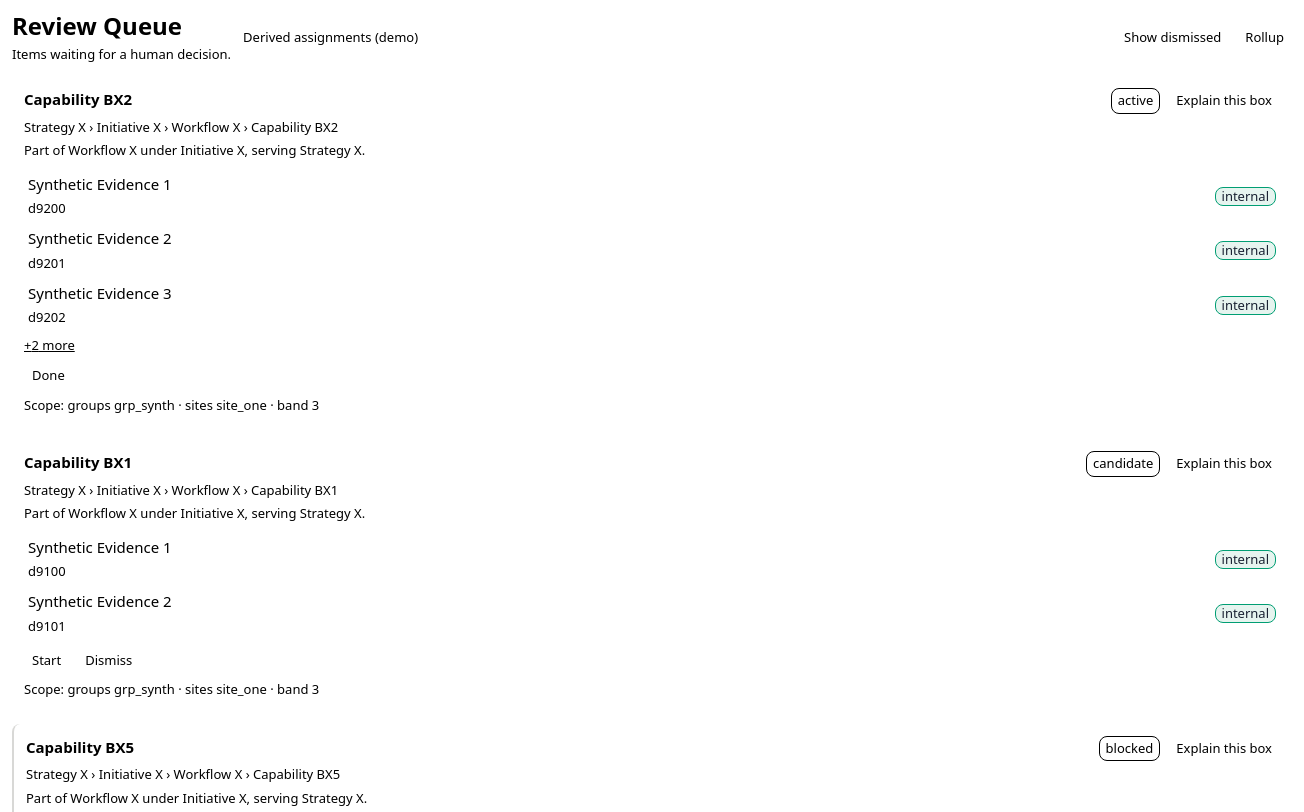
it: U-25: explain-this-box lights the provenance path › capability deep-links into Atlas; other segments anchor in the lane
Click the button with test id "box-explain" next to "active" at [1224, 101], box [1168,89,1280,113]
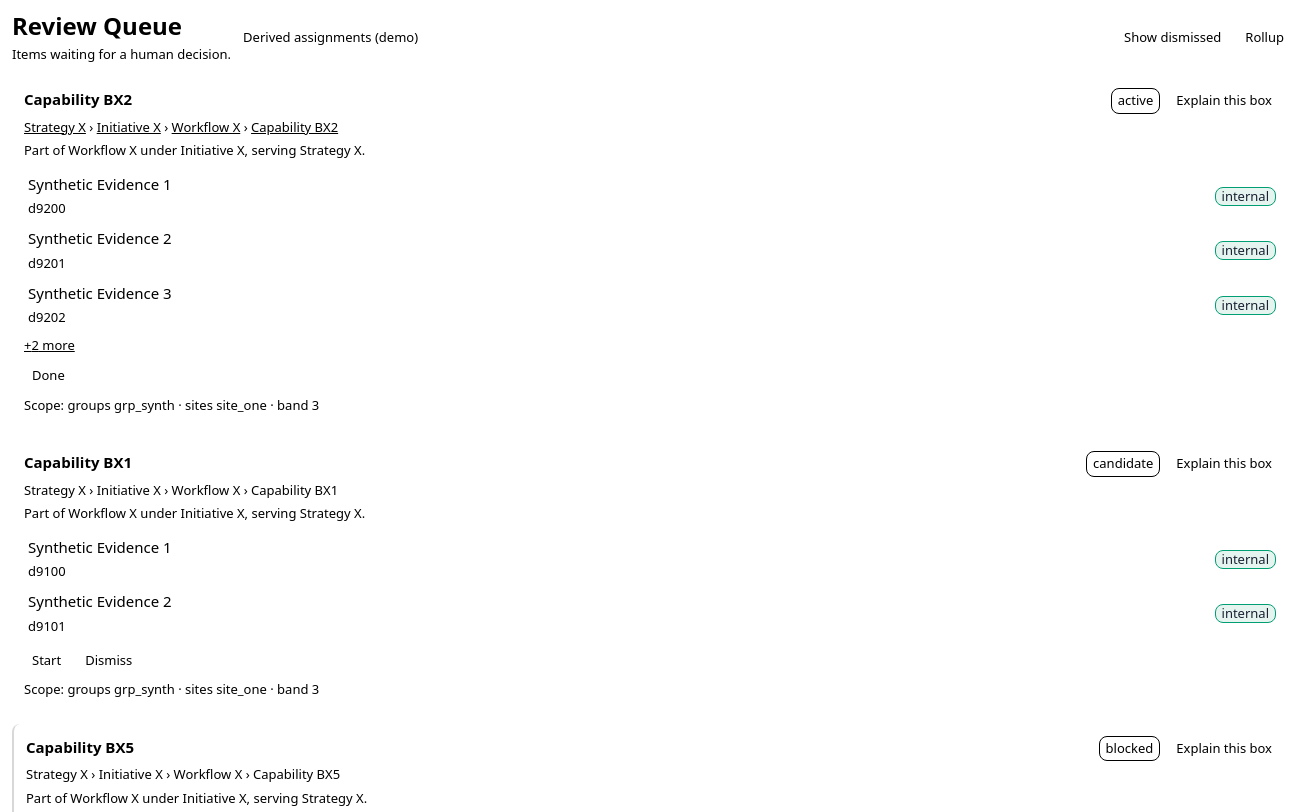
Result: the number of links with test id "crumb-anchor" is 3 at [24,118,86,136]; [97,118,161,136]; [172,118,240,136]
